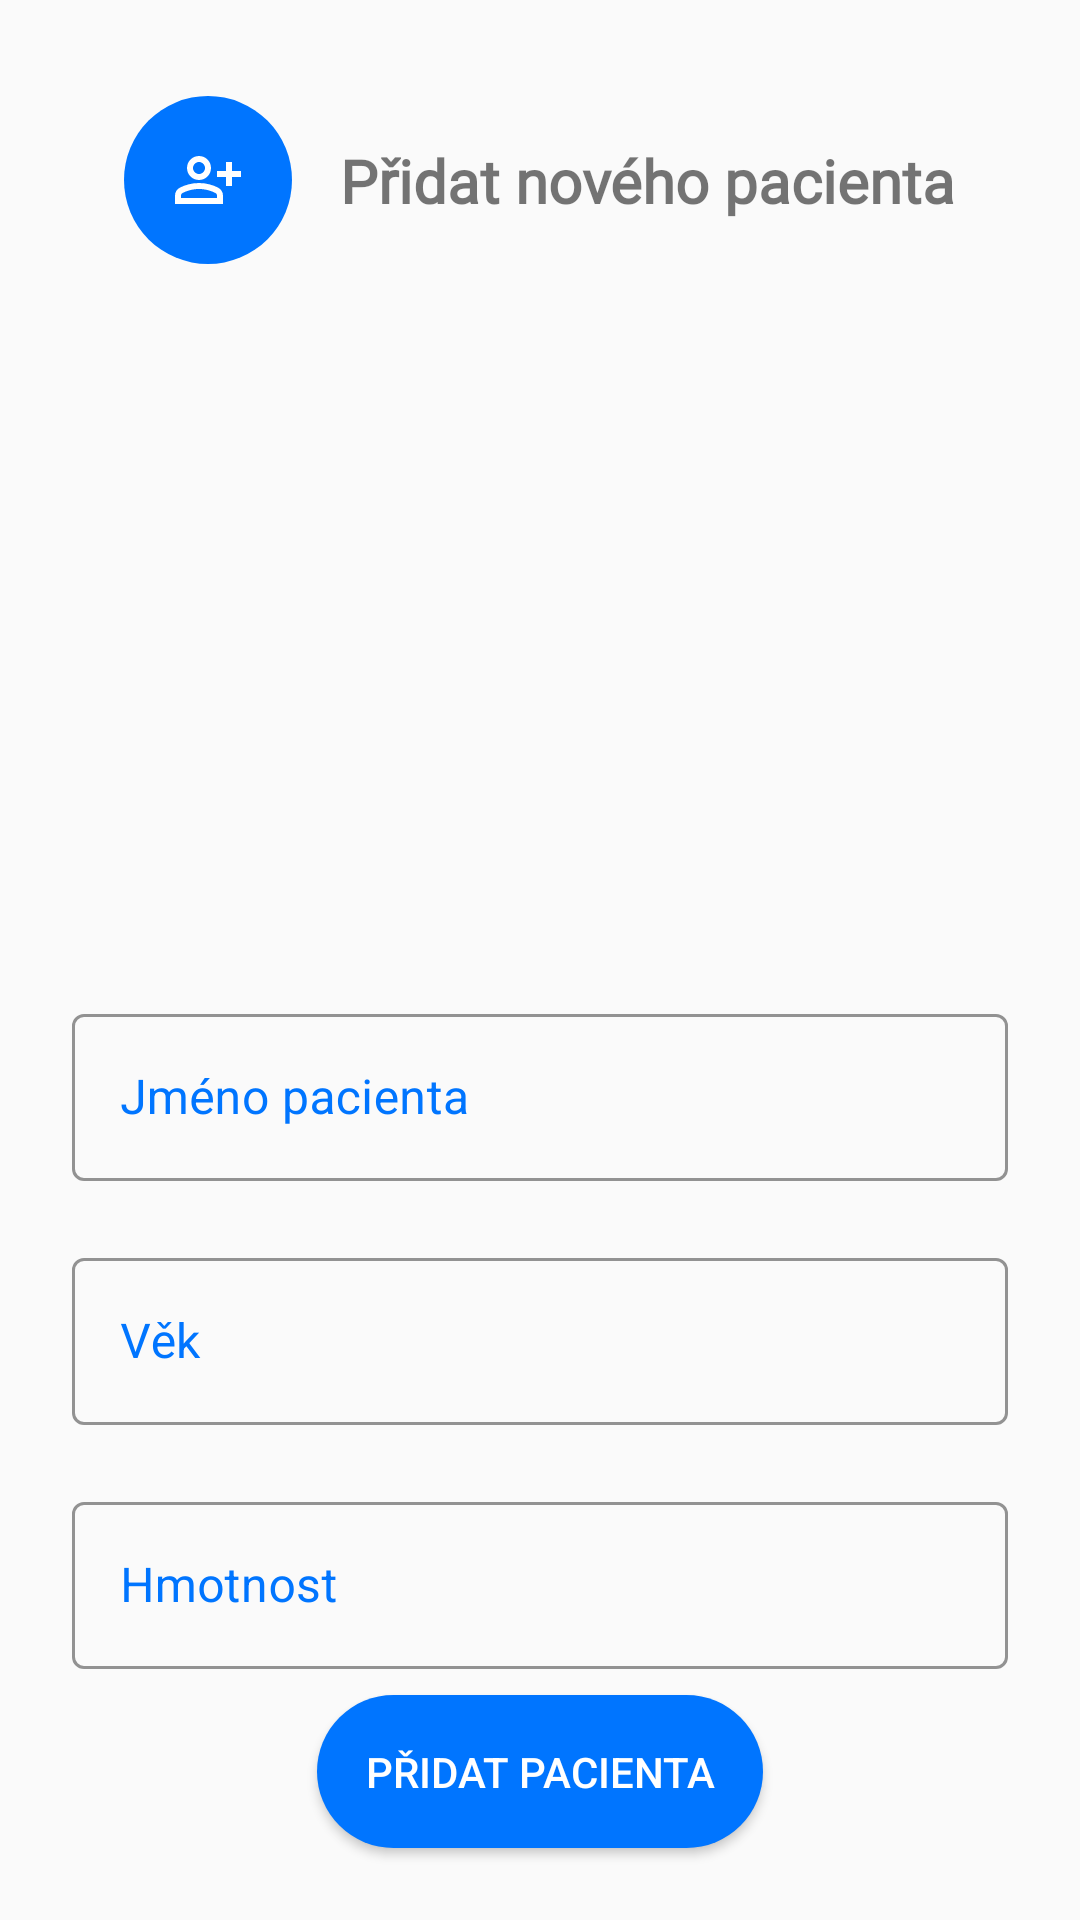

Named icons in this screenshot (1080w x 1920h) and their centers, (x=x, y=y):
person add: (x=208, y=180)
